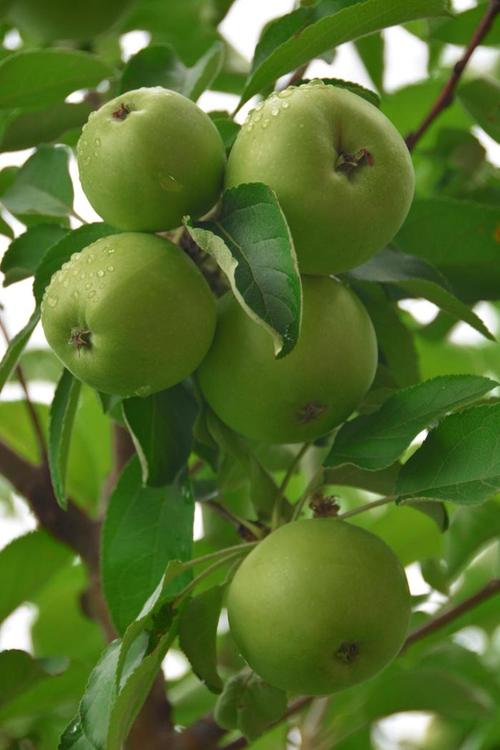unripe: (220, 77, 417, 279), (222, 515, 423, 702), (19, 232, 224, 408), (201, 268, 381, 444), (52, 73, 235, 235)
